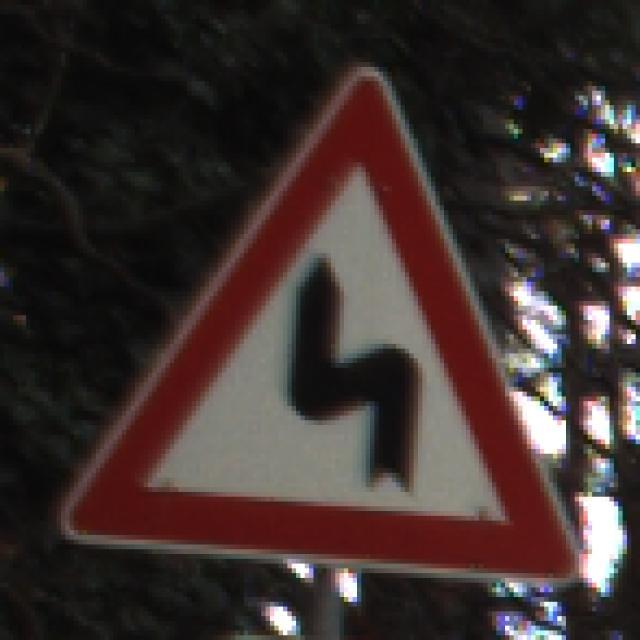left reverse bend: (58, 65, 586, 586)
